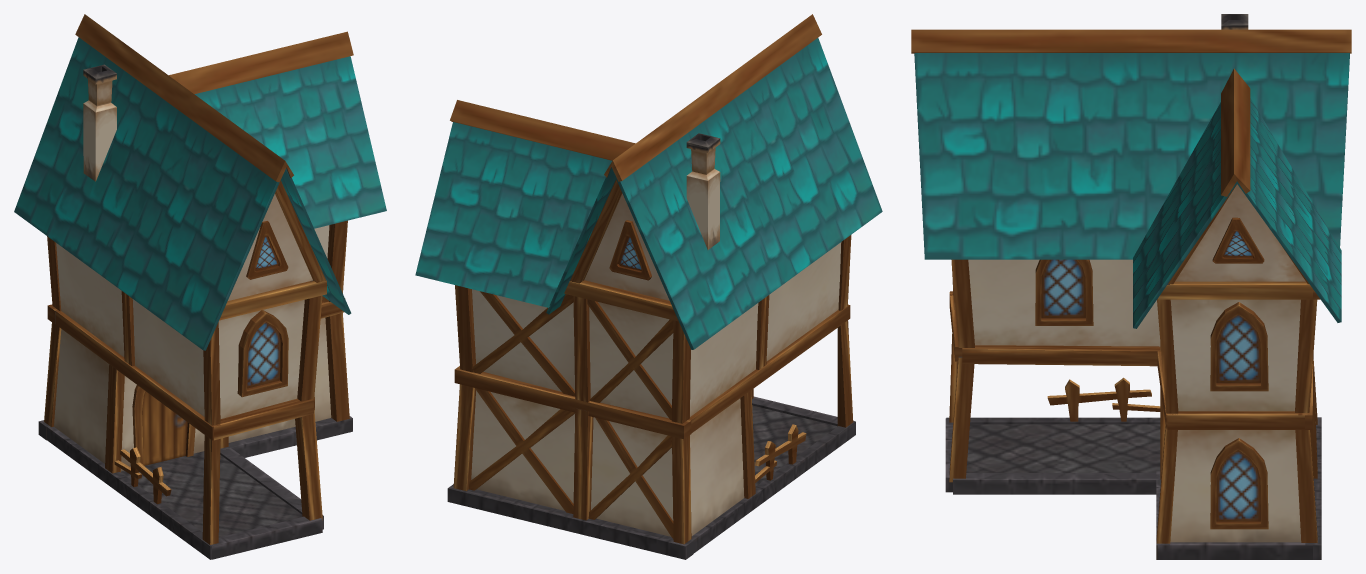
File: building_2.FBX
3 renders of one model, left to right at view 1: azimuth 30°, elevation 25°; view 2: azimuth 150°, elevation 25°; view 3: azimuth 270°, elevation 25°, orthographic. The views are drawn at different scales.
Parts seen in each view (by area): view 1: Fantasy_House_2; view 2: Fantasy_House_2; view 3: Fantasy_House_2.
Part boxes in pixels (x1=…): Fantasy_House_2: x1=14, y1=14, x2=386, y2=559; Fantasy_House_2: x1=415, y1=14, x2=882, y2=559; Fantasy_House_2: x1=911, y1=14, x2=1351, y2=559.
Size of the model in its own units: 6.79 by 8.99 by 8.25.
